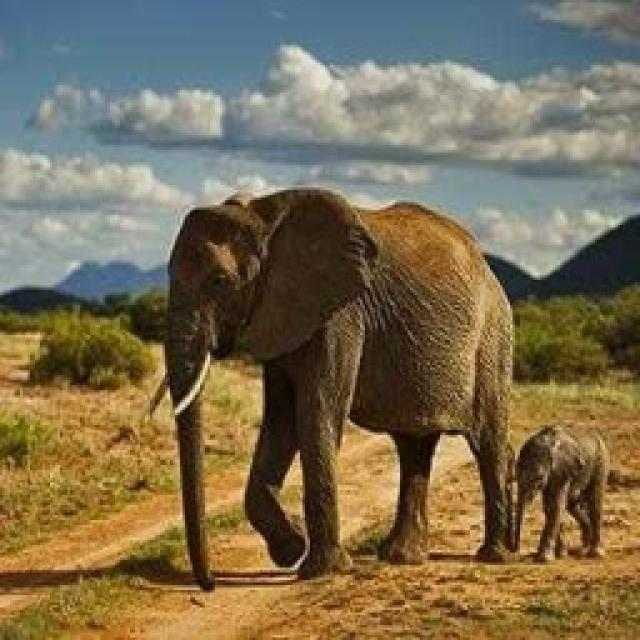not_pig: (143, 185, 515, 590), (510, 420, 610, 562)
